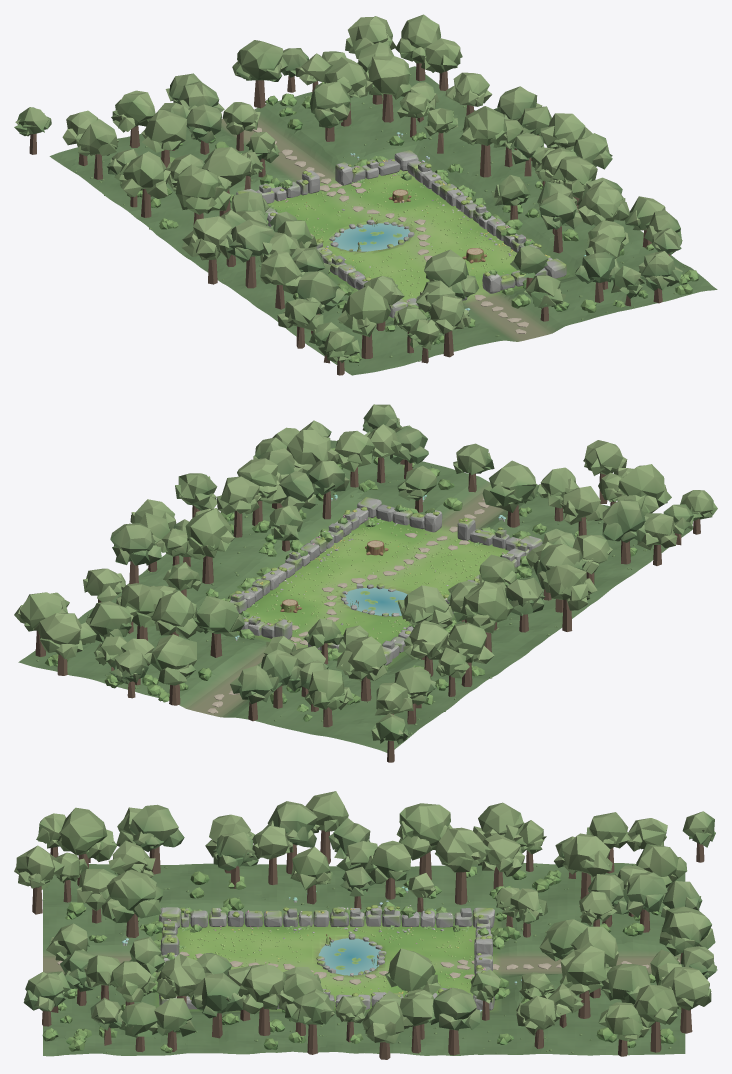
Rendered from mossy_glade_pond_roblox.glb.
The picture shows the model from 3 angles, top to bottom: view 1: azimuth 30°, elevation 25°; view 2: azimuth 150°, elevation 25°; view 3: azimuth 270°, elevation 25°; orthographic projection. The views are drawn at different scales.
Parts seen in each view (by area): view 1: Trees, Ground, Walls, Bushes, Water, Grass, Props; view 2: Trees, Ground, Walls, Bushes, Grass, Water, Props; view 3: Trees, Ground, Walls, Bushes, Water, Grass, Groundcover.
Part boxes in pixels (box(x1,y1,x2,y2)): Trees: box(14, 14, 682, 375); Ground: box(49, 66, 717, 375); Walls: box(236, 150, 566, 317); Bushes: box(127, 82, 698, 362); Water: box(333, 223, 410, 251); Grass: box(74, 74, 685, 365); Props: box(351, 134, 486, 311); Trees: box(14, 404, 717, 762); Ground: box(18, 440, 693, 752); Walls: box(229, 497, 542, 665); Bushes: box(45, 448, 637, 721); Grass: box(36, 465, 647, 734); Water: box(344, 587, 407, 616); Props: box(235, 496, 504, 640); Trees: box(14, 791, 717, 1059); Ground: box(43, 863, 685, 1056); Walls: box(158, 905, 494, 1010); Bushes: box(42, 866, 681, 1052); Water: box(318, 938, 380, 975); Grass: box(42, 863, 671, 1054); Groundcover: box(168, 905, 485, 993).
Size of the model in its own units: 35.2 by 6.3 by 47.13.
